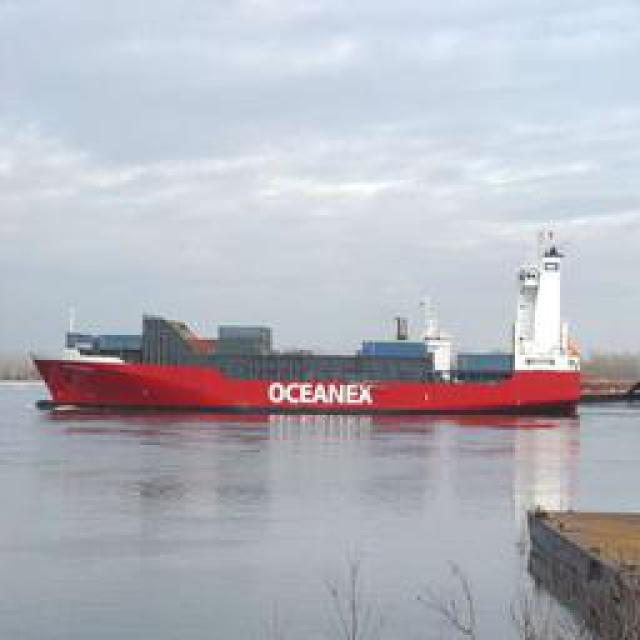Ship: (28, 252, 596, 415)
